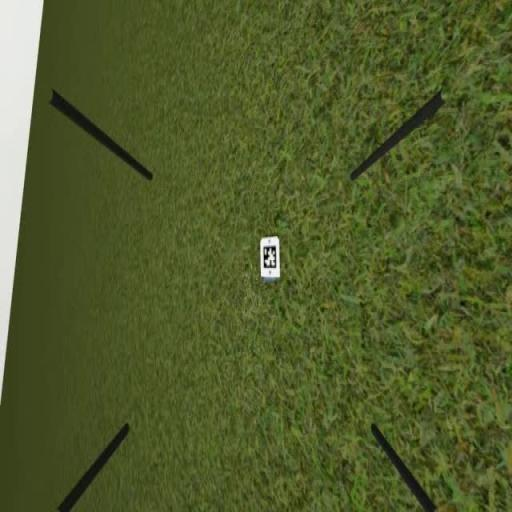UGV: (256, 232, 283, 283)
